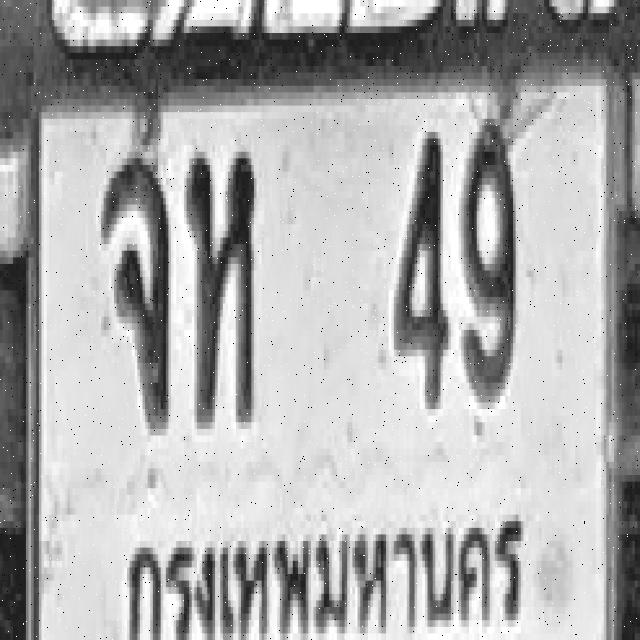17ChorChan: (100, 156, 168, 426)
4: (394, 128, 448, 406)
50HorHeep: (186, 148, 254, 426)
9: (462, 122, 516, 399)
Bangkok: (122, 502, 526, 640)
